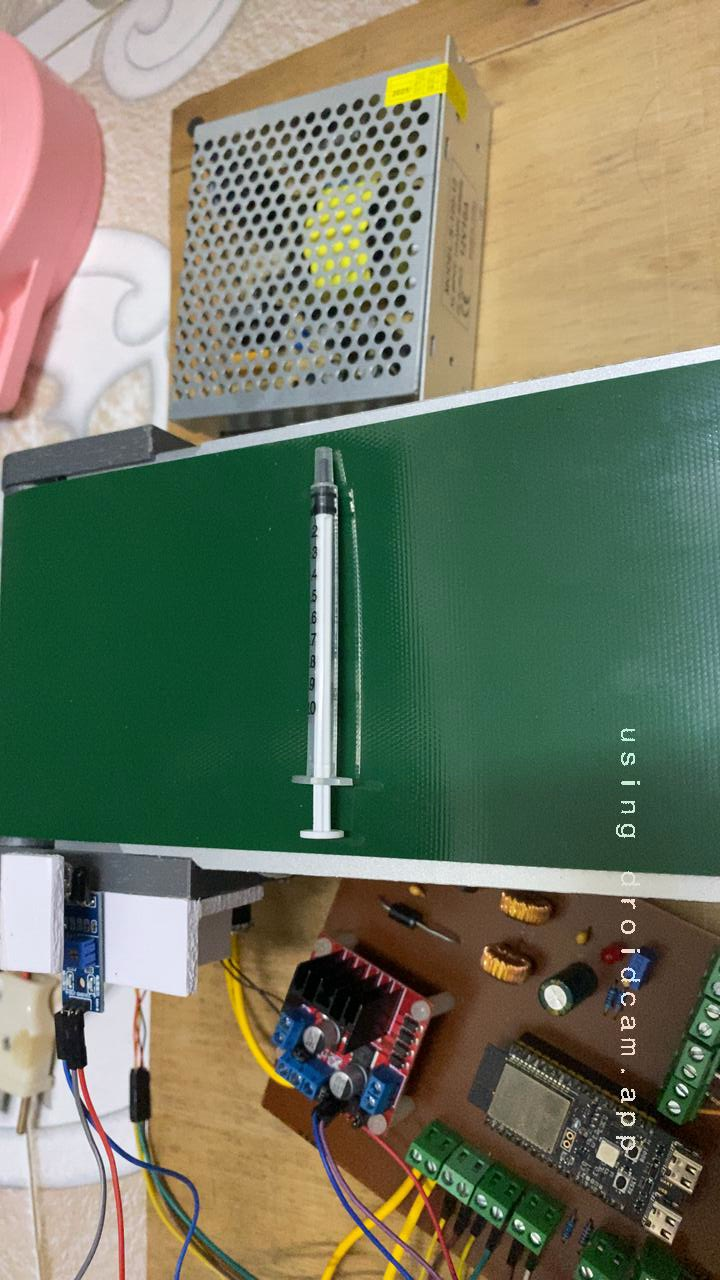syringe: (241, 442, 391, 871)
